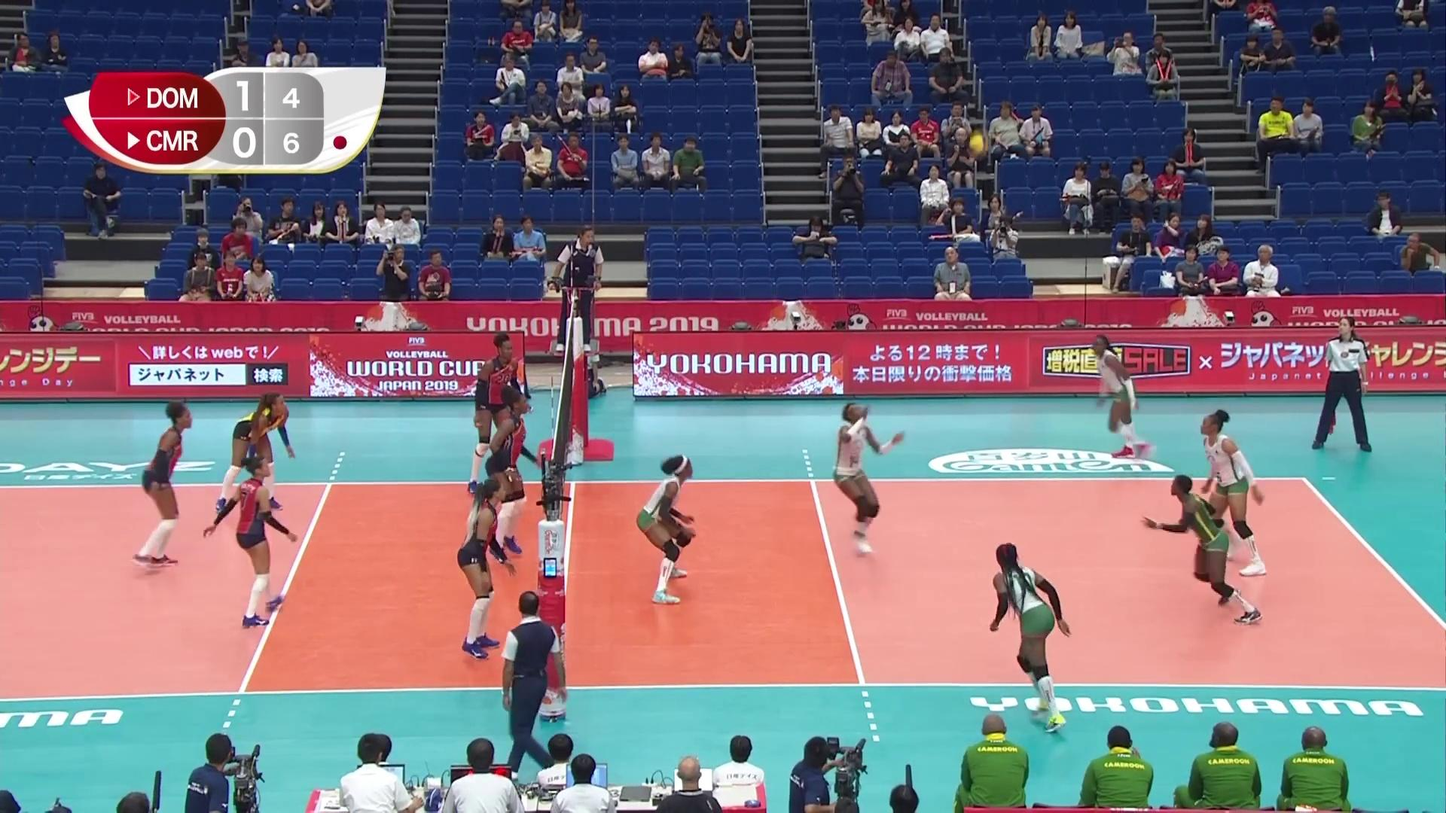player: (1149, 476, 1266, 627), (989, 545, 1070, 734), (207, 461, 295, 626), (1200, 411, 1267, 580), (455, 477, 515, 662), (480, 391, 543, 562), (633, 454, 701, 599), (838, 403, 902, 556), (212, 394, 294, 512), (133, 404, 192, 567), (468, 331, 523, 489), (1088, 333, 1154, 459)
refree: (500, 592, 567, 781), (1314, 319, 1373, 452), (554, 224, 603, 350)
